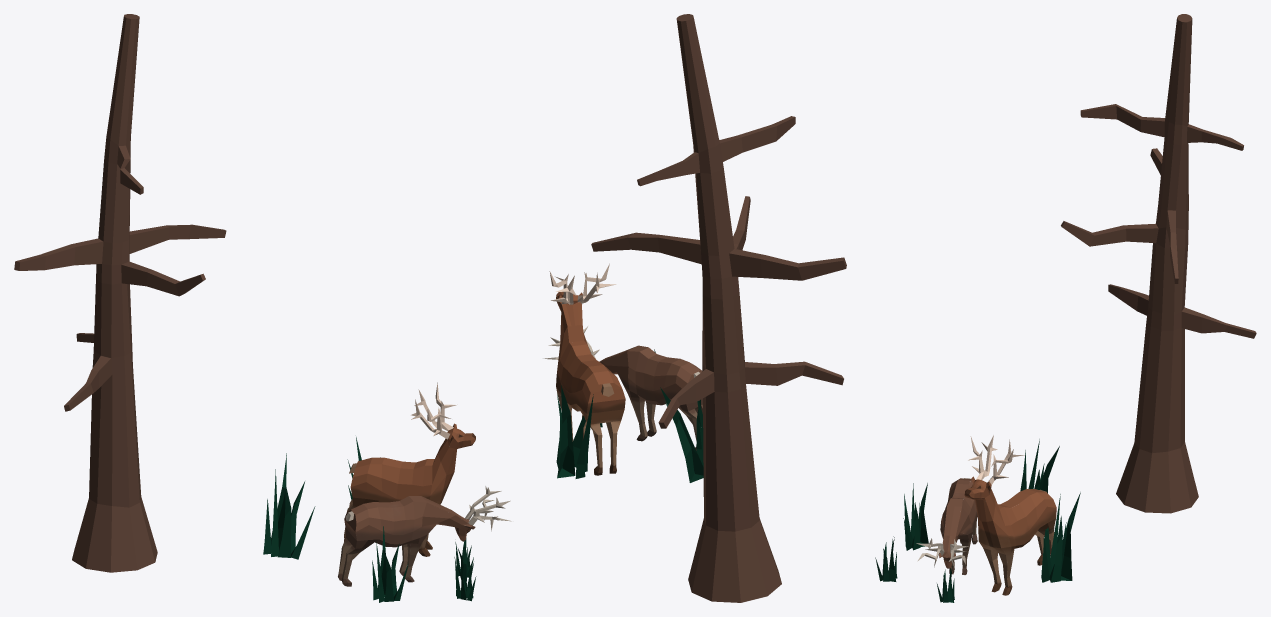
The model's file is jelenponovo.obj.
3 renders of one model, left to right at view 1: azimuth 30°, elevation 25°; view 2: azimuth 150°, elevation 25°; view 3: azimuth 270°, elevation 25°, orthographic. The views are drawn at different scales.
Visible parts, largest first — view 1: Tree__2-_1, Elk_model_2.001, Elk_model.001, Grass_3, Grass_1; view 2: Tree__2-_1, Elk_model.001, Elk_model_2.001, Grass_4, Grass_3; view 3: Tree__2-_1, Elk_model.001, Elk_model_2.001, Grass_4, Grass_1, Grass_3.
Part boxes in pixels (<box>): Tree__2-_1: <box>14,14,226,572</box>; Elk_model_2.001: <box>338,486,511,586</box>; Elk_model.001: <box>344,382,475,556</box>; Grass_3: <box>263,453,315,559</box>; Grass_1: <box>372,526,408,602</box>; Tree__2-_1: <box>591,14,846,602</box>; Elk_model.001: <box>549,263,625,475</box>; Elk_model_2.001: <box>543,326,702,450</box>; Grass_4: <box>556,385,593,478</box>; Grass_3: <box>660,387,703,482</box>; Tree__2-_1: <box>1061,14,1256,513</box>; Elk_model.001: <box>964,435,1056,595</box>; Elk_model_2.001: <box>916,478,977,574</box>; Grass_4: <box>1041,492,1080,582</box>; Grass_1: <box>903,483,928,550</box>; Grass_3: <box>1020,439,1059,493</box>.
Bounding box in the file's own units: 7.14 × 9.4 × 6.56.
4 materials, 4 textured.
